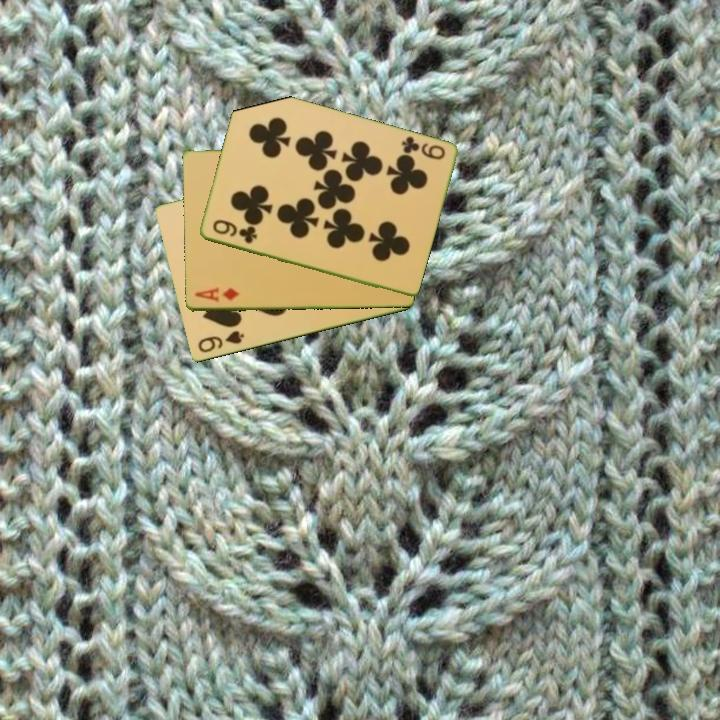9c: (209, 216, 259, 247), (398, 133, 448, 163)
9s: (194, 327, 247, 356)
Ad: (191, 285, 242, 305)
